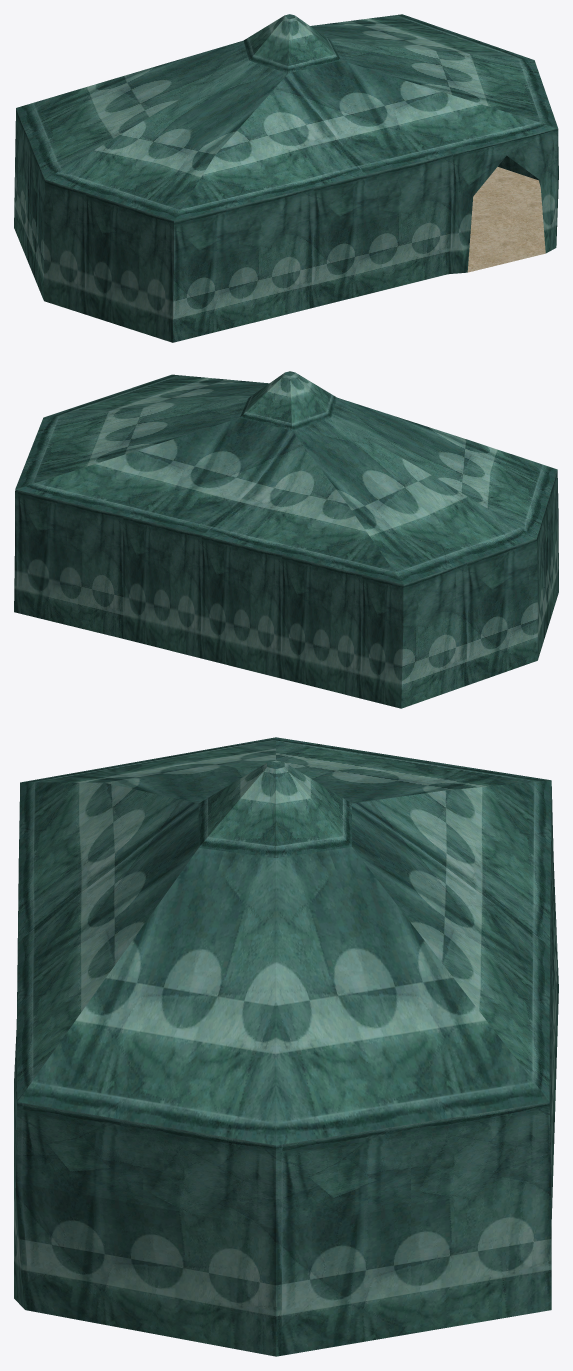
The model's file is ply_nboo_idesigner_tent_s01_r1_mesh_r1.fbx.
3 views of the same model, one above another, from view 1: azimuth 30°, elevation 25°; view 2: azimuth 150°, elevation 25°; view 3: azimuth 270°, elevation 25° (orthographic). The views are drawn at different scales.
Parts seen in each view (by area): view 1: mesh_node; view 2: mesh_node; view 3: mesh_node.
Boxes of the visible parts, bbox=[...] form: mesh_node: bbox=[14, 14, 558, 342]; mesh_node: bbox=[14, 371, 558, 708]; mesh_node: bbox=[14, 737, 558, 1356].
Size of the model in its own units: 14.73 by 6.39 by 8.22.
2 materials, 2 textured.
